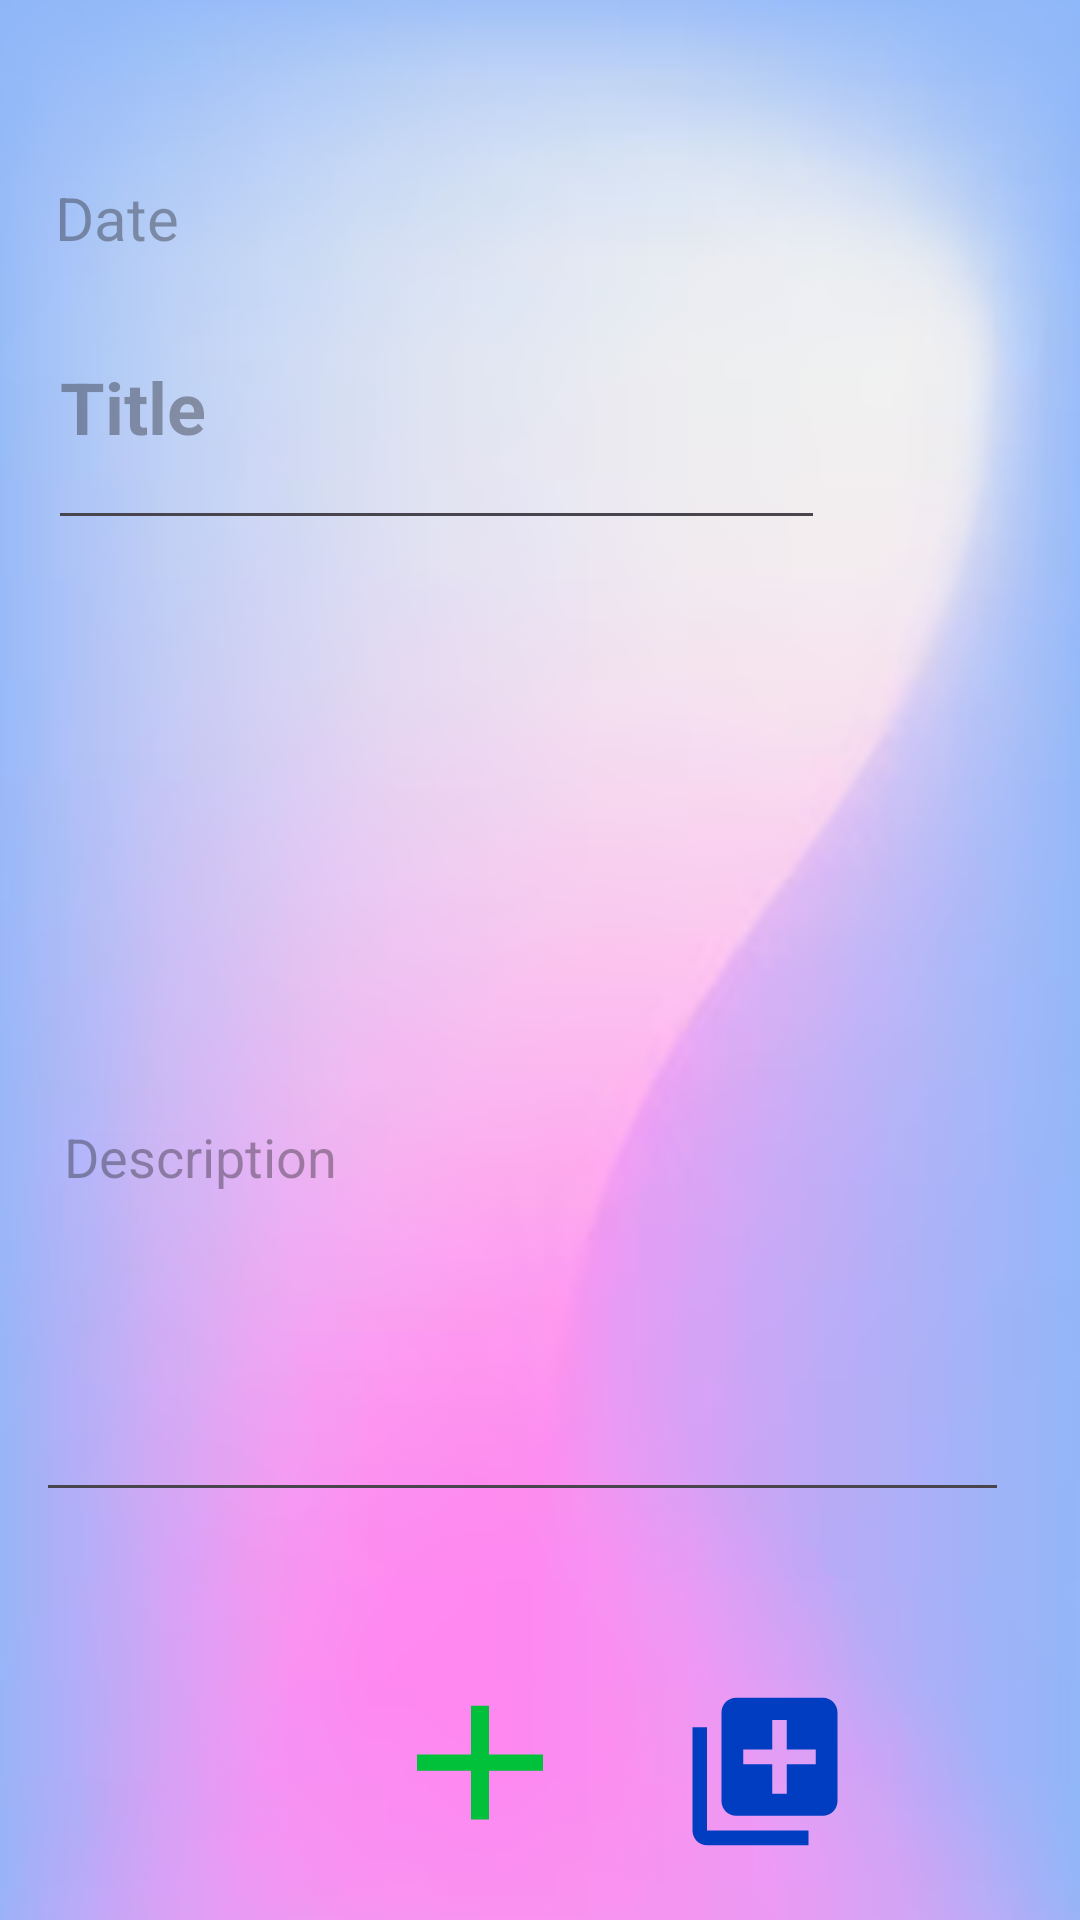

Icons on this 1080px x 1920px Android screen, each with the point to tap as (x=x, y=y):
add: (x=480, y=1762)
add to photos: (x=772, y=1771)
